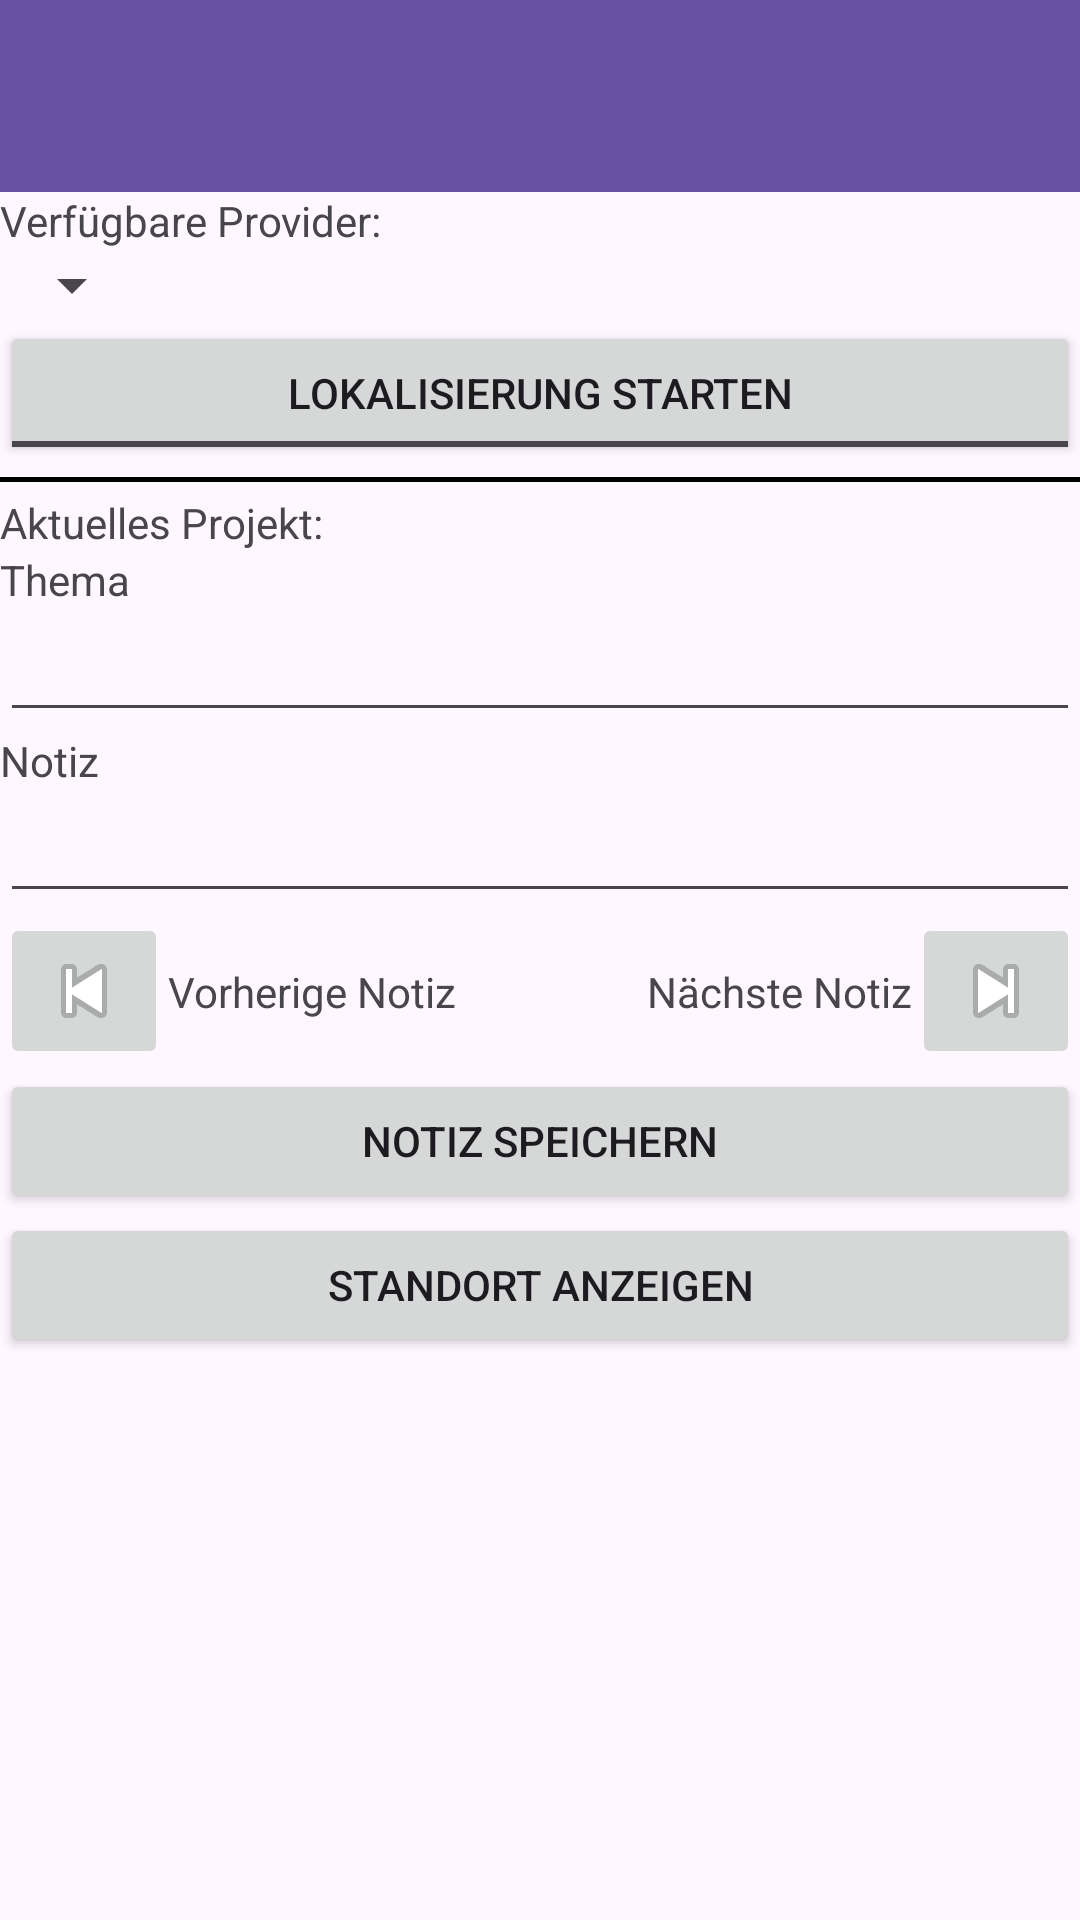

Screen size 1080x1920. Icon name, then its center in pixels as [x,y]:
next: [996,991]
previous: [84,991]
